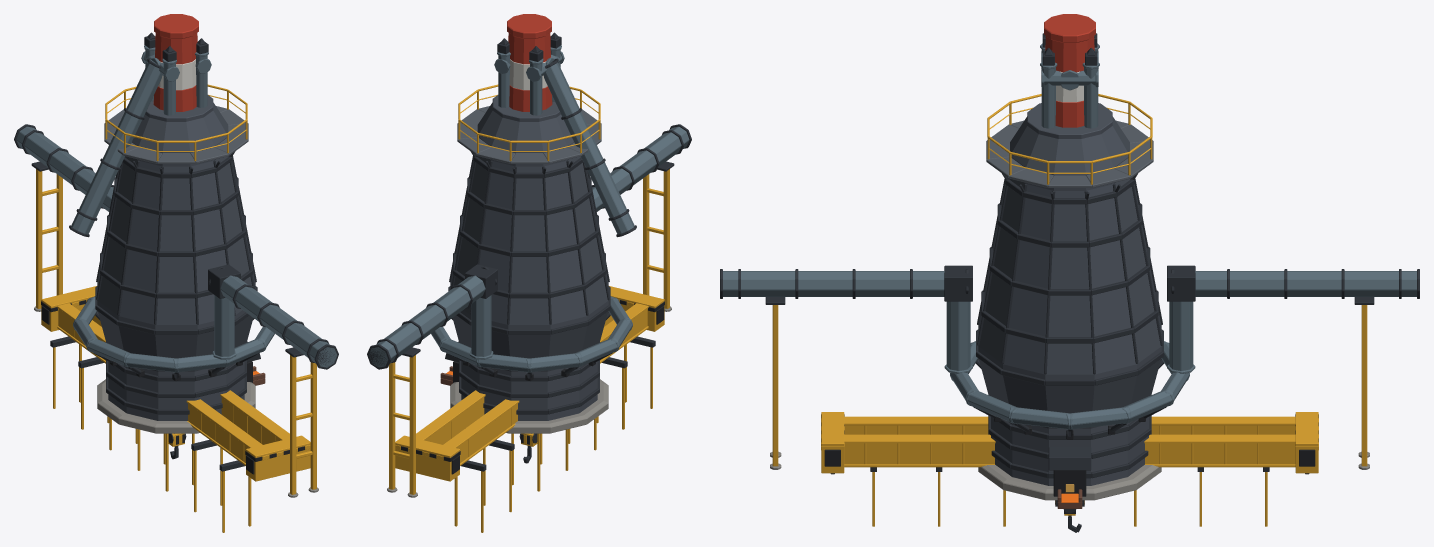
File: Kit.fbx
The picture shows the model from 3 angles, left to right: view 1: azimuth 30°, elevation 25°; view 2: azimuth 150°, elevation 25°; view 3: azimuth 270°, elevation 25°; orthographic projection. The views are drawn at different scales.
Parts seen in each view (by area): view 1: F4Furnace_F4_Steel, F4Furnace_F4_Pipe, F4Furnace_F4_SteelDark, F4Crane_F4_Yellow, F4Furnace_F4_Yellow, F4Chimney_F4_Red, F4Furnace_F4_Grate, F4Furnace_F4_Concrete, F4Crane_F4_SteelDark, F4Crane_F4_Black, F4Chimney_F4_White; view 2: F4Furnace_F4_Steel, F4Furnace_F4_Pipe, F4Furnace_F4_SteelDark, F4Crane_F4_Yellow, F4Furnace_F4_Yellow, F4Chimney_F4_Red, F4Furnace_F4_Grate, F4Furnace_F4_Concrete, F4Crane_F4_SteelDark, F4Crane_F4_Black, F4Chimney_F4_White; view 3: F4Furnace_F4_Steel, F4Furnace_F4_Pipe, F4Crane_F4_Yellow, F4Furnace_F4_SteelDark, F4Furnace_F4_Yellow, F4Furnace_F4_Grate, F4Chimney_F4_Red, F4Furnace_F4_Concrete, F4Furnace_F4_Black.
Part boxes in pixels (bbox=[...]): F4Furnace_F4_Steel: bbox=[97, 95, 255, 420]; F4Furnace_F4_Pipe: bbox=[16, 45, 336, 372]; F4Furnace_F4_SteelDark: bbox=[14, 32, 338, 414]; F4Crane_F4_Yellow: bbox=[41, 286, 310, 532]; F4Furnace_F4_Yellow: bbox=[36, 84, 316, 494]; F4Chimney_F4_Red: bbox=[153, 14, 198, 111]; F4Furnace_F4_Grate: bbox=[104, 106, 248, 163]; F4Furnace_F4_Concrete: bbox=[34, 306, 318, 497]; F4Crane_F4_SteelDark: bbox=[50, 336, 244, 471]; F4Crane_F4_Black: bbox=[41, 300, 304, 474]; F4Chimney_F4_White: bbox=[158, 59, 196, 90]; F4Furnace_F4_Steel: bbox=[450, 95, 608, 420]; F4Furnace_F4_Pipe: bbox=[369, 45, 689, 372]; F4Furnace_F4_SteelDark: bbox=[367, 32, 691, 414]; F4Crane_F4_Yellow: bbox=[395, 286, 664, 532]; F4Furnace_F4_Yellow: bbox=[389, 84, 669, 494]; F4Chimney_F4_Red: bbox=[507, 14, 552, 111]; F4Furnace_F4_Grate: bbox=[457, 106, 601, 163]; F4Furnace_F4_Concrete: bbox=[387, 306, 671, 497]; F4Crane_F4_SteelDark: bbox=[461, 336, 655, 471]; F4Crane_F4_Black: bbox=[401, 300, 664, 474]; F4Chimney_F4_White: bbox=[509, 59, 547, 90]; F4Furnace_F4_Steel: bbox=[978, 103, 1161, 485]; F4Furnace_F4_Pipe: bbox=[723, 43, 1416, 429]; F4Crane_F4_Yellow: bbox=[821, 412, 1318, 526]; F4Furnace_F4_SteelDark: bbox=[720, 33, 1419, 478]; F4Furnace_F4_Yellow: bbox=[772, 94, 1367, 466]; F4Furnace_F4_Grate: bbox=[986, 120, 1153, 187]; F4Chimney_F4_Red: bbox=[1044, 14, 1095, 127]; F4Furnace_F4_Concrete: bbox=[770, 451, 1369, 500]; F4Furnace_F4_Black: bbox=[994, 417, 1145, 496].
Size of the model in its own units: 32.06 by 68.55 by 85.6.
